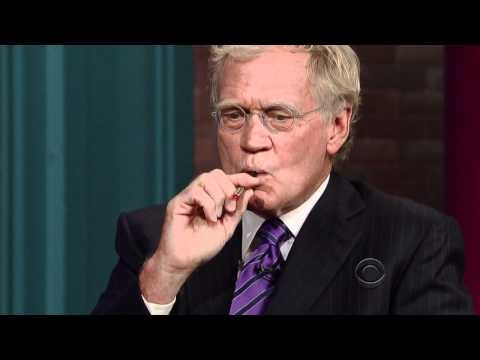cigarette: (224, 169, 260, 203)
